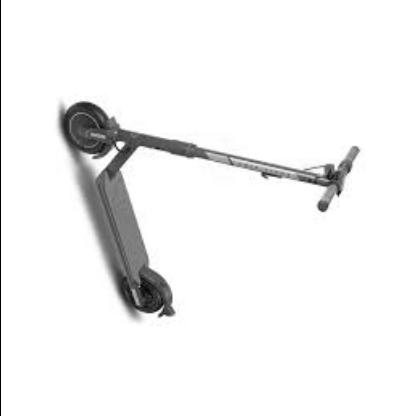bike: (62, 100, 362, 319)
